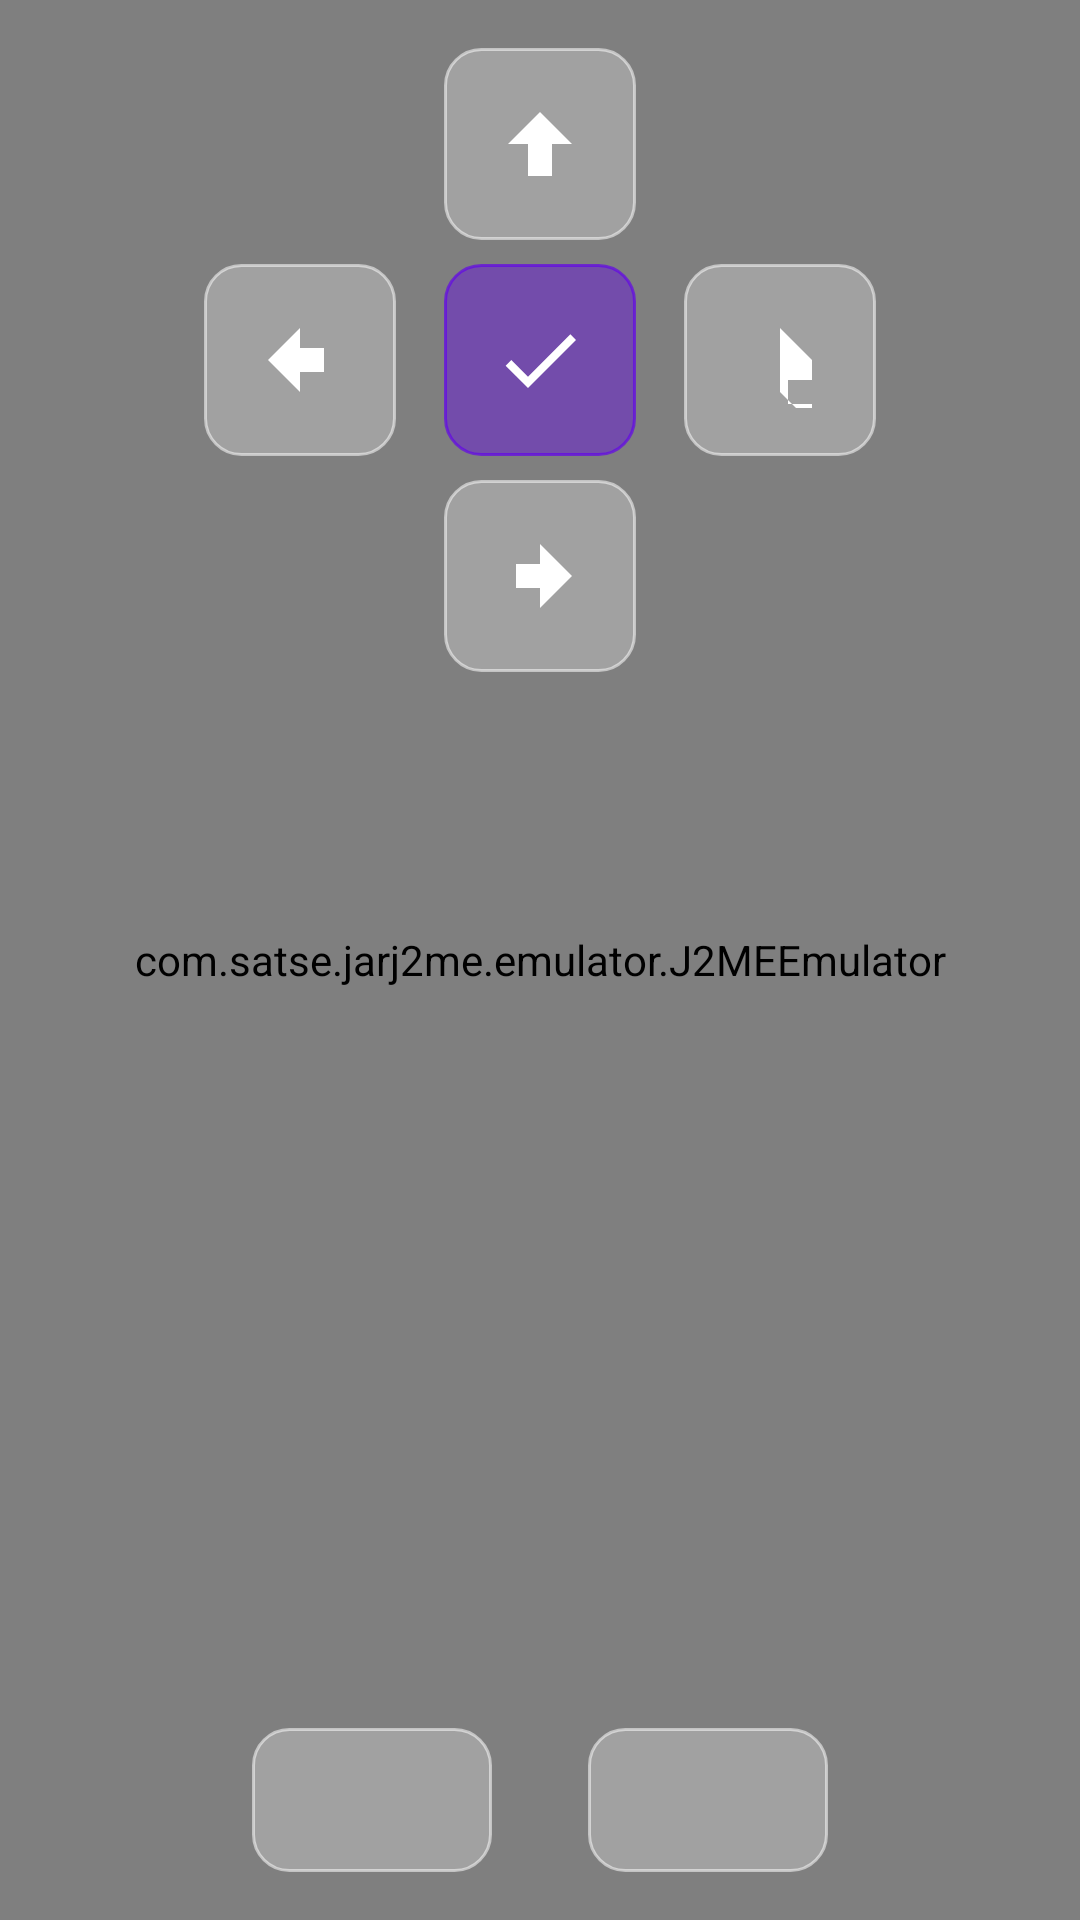

Icons on this 1080px×1920px Android screen, each with its box as (x1, y1, x2, y2):
dpad left: (204, 264, 396, 456)
dpad up: (444, 48, 636, 240)
确定: (444, 264, 636, 456)
